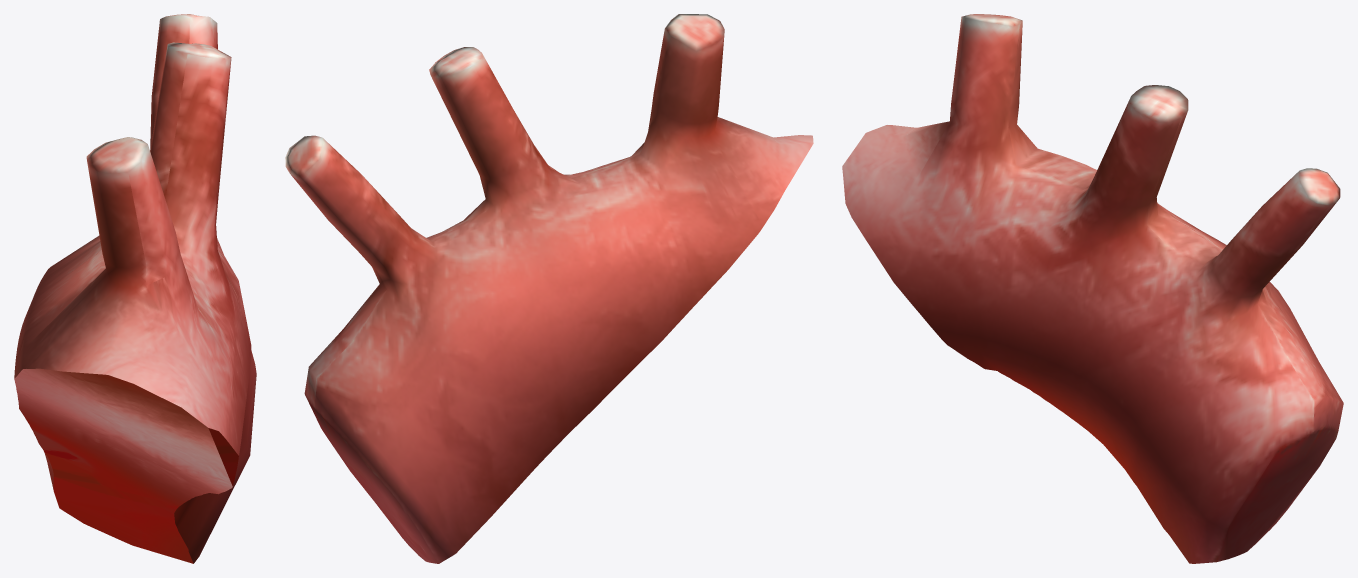
The model's file is SM_HeartPiece_18_.FBX.
3 renders of one model, left to right at view 1: azimuth 30°, elevation 25°; view 2: azimuth 150°, elevation 25°; view 3: azimuth 270°, elevation 25°, orthographic. The views are drawn at different scales.
Visible parts, largest first — view 1: SM_HeartPiece_18_; view 2: SM_HeartPiece_18_; view 3: SM_HeartPiece_18_.
Boxes of the visible parts, <box> form: SM_HeartPiece_18_: <box>14,14,256,563</box>; SM_HeartPiece_18_: <box>285,14,813,563</box>; SM_HeartPiece_18_: <box>842,14,1343,563</box>.
Bounding box in the file's own units: 236 × 325 × 338.
